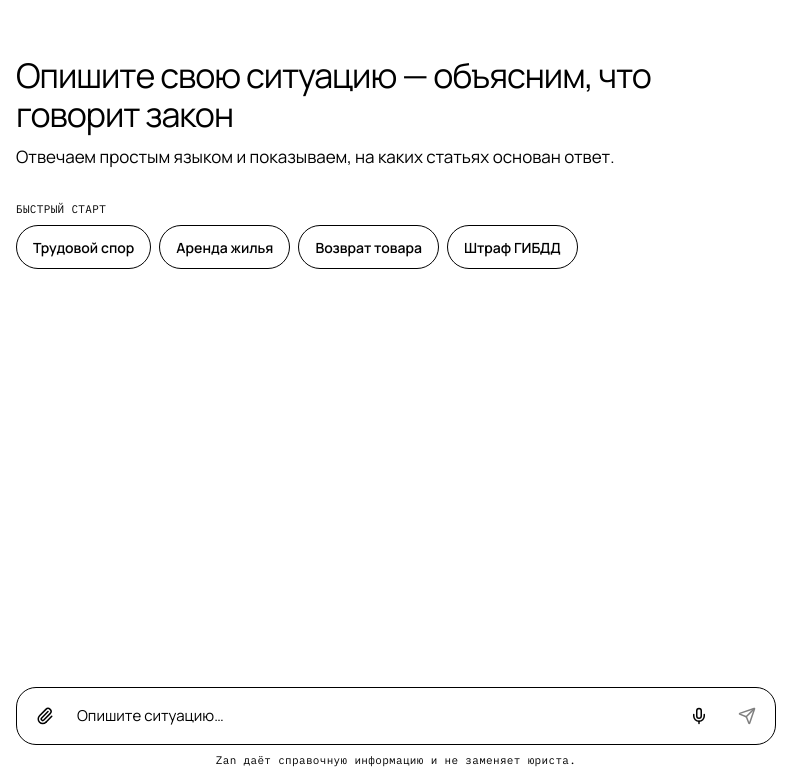
ChatPage › отправка первого сообщения создаёт тред (processing) и показывает ответ, когда его доставит WS
Step 1. Type "У меня вопрос про отпуск" into the text box with placeholder "Опишите ситуацию…" → (372, 716), box [71, 695, 673, 738]
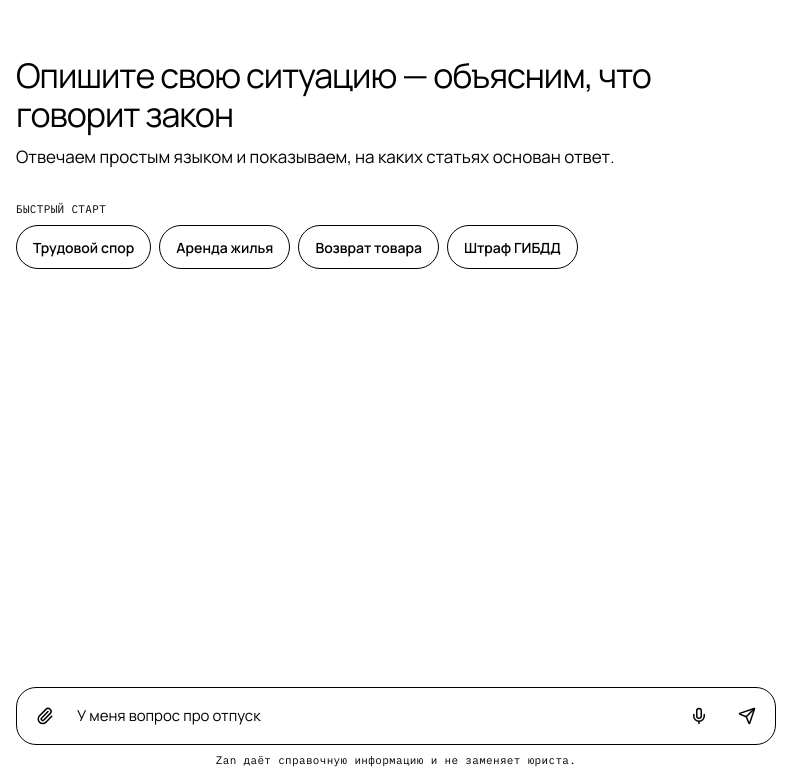
Step 2. Click the button named "Отправить сообщение" → click(747, 716), box [725, 694, 769, 738]
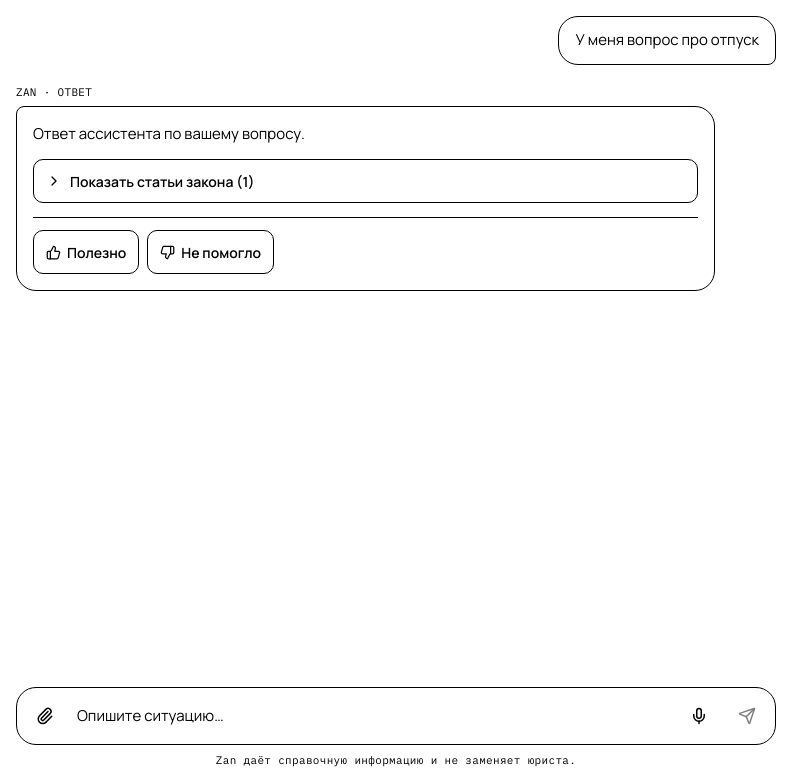
Check: the text "Ответ ассистента по вашему вопросу." is shown, box [33, 123, 305, 144]
